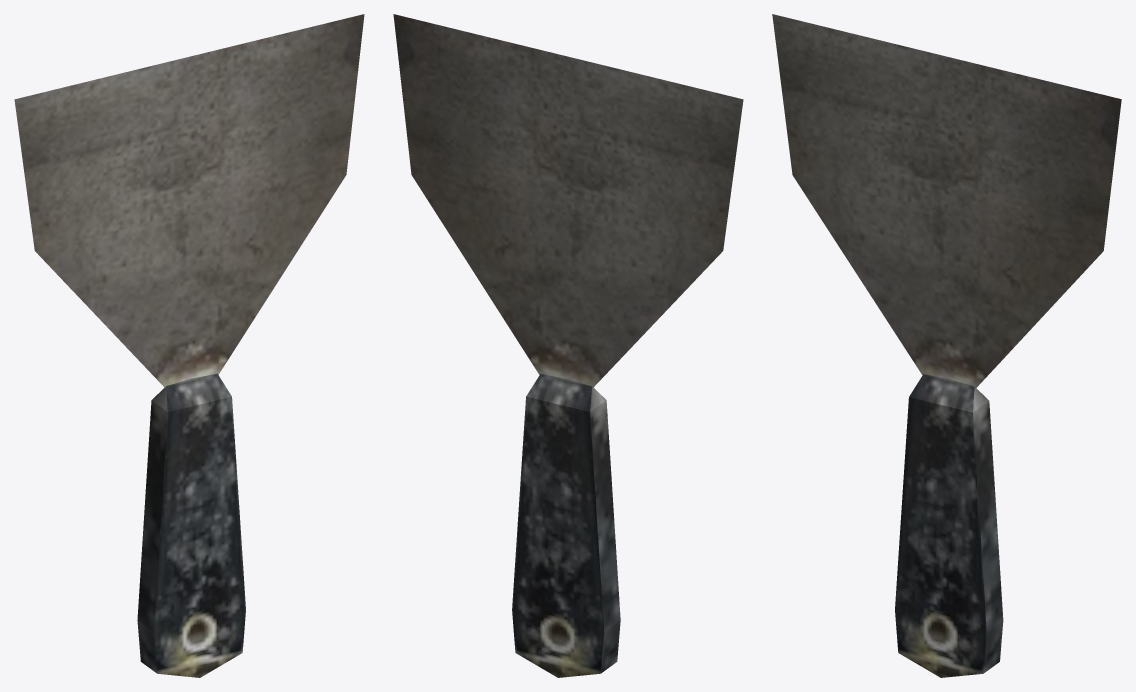
File: PuttyKnife.obj
The picture shows the model from 3 angles, left to right: view 1: azimuth 30°, elevation 25°; view 2: azimuth 150°, elevation 25°; view 3: azimuth 330°, elevation 25°; orthographic projection.
Parts seen in each view (by area): view 1: PuttyKnife; view 2: PuttyKnife; view 3: PuttyKnife.
Part boxes in pixels (box(x1,y1,x2,y2)): PuttyKnife: box(14, 14, 364, 677); PuttyKnife: box(393, 14, 743, 677); PuttyKnife: box(772, 14, 1121, 677).
Size of the model in its own units: 1.47 by 2.47 by 0.1196.
Materials: 1 (1 with a texture image).
